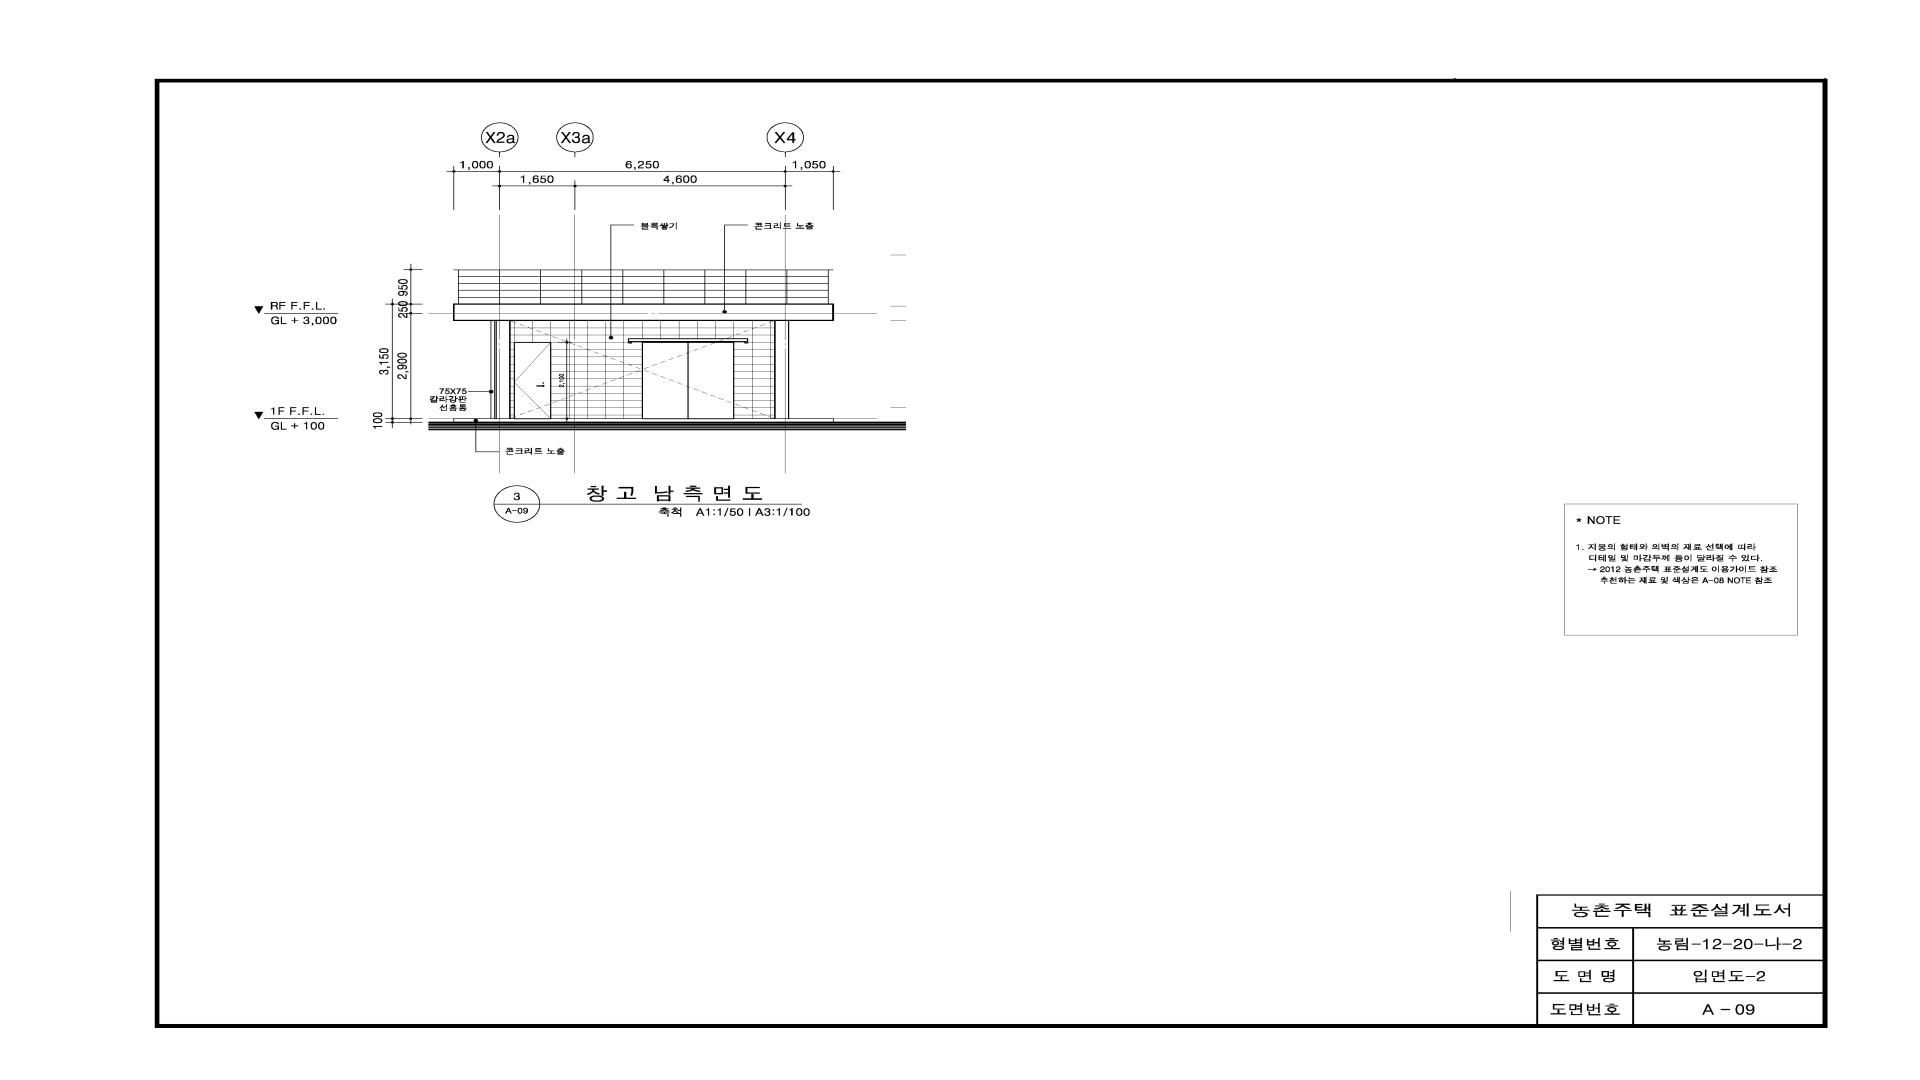door: (514, 342, 551, 419)
wall: (454, 303, 833, 418), (510, 322, 774, 418), (458, 269, 829, 303), (454, 418, 833, 422), (491, 320, 495, 418)
window: (642, 342, 735, 419)
